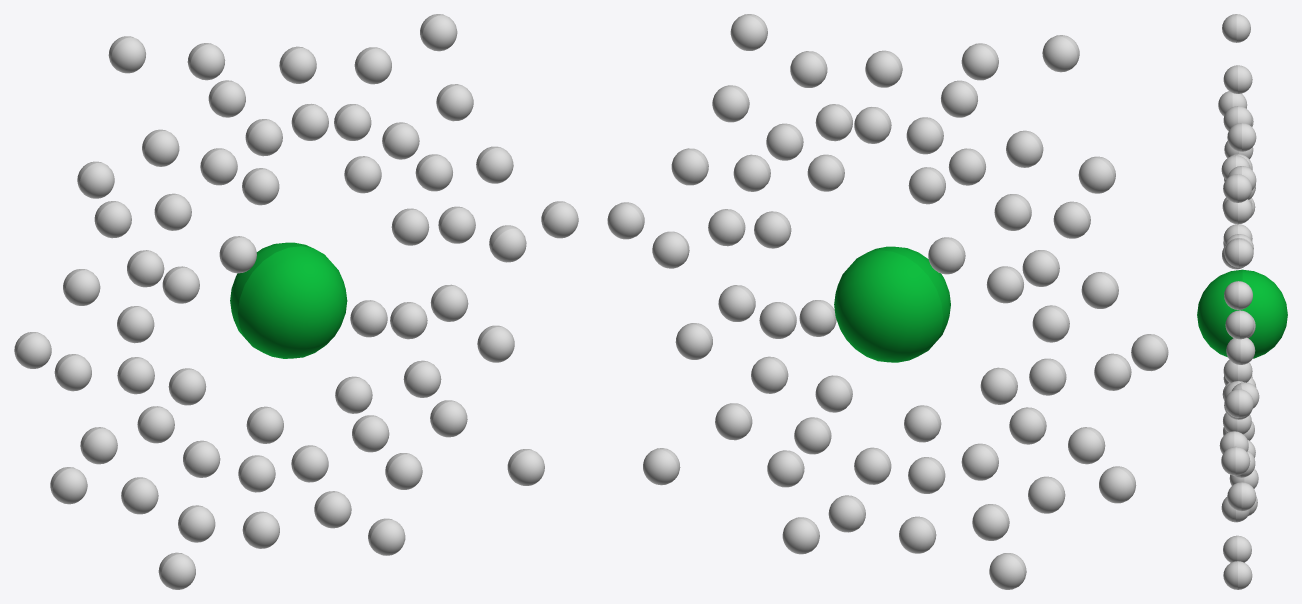
File: bariumatom.fbx
3 views of the same model, side by side, from view 1: azimuth 30°, elevation 25°; view 2: azimuth 150°, elevation 25°; view 3: azimuth 270°, elevation 25° (orthographic). The views are drawn at different scales.
Parts seen in each view (by area): view 1: Sfera (×57); view 2: Sfera (×57); view 3: Sfera (×28).
Boxes of the visible parts, box(x1,y1,x2,y2) form: Sfera (×57): box(14, 14, 578, 589); Sfera (×57): box(607, 14, 1168, 589); Sfera (×28): box(1197, 14, 1287, 589).
Bounding box in the file's own units: 5.78 × 5.74 × 1.05.
